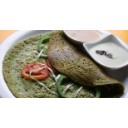dosa: (5, 32, 124, 99)
